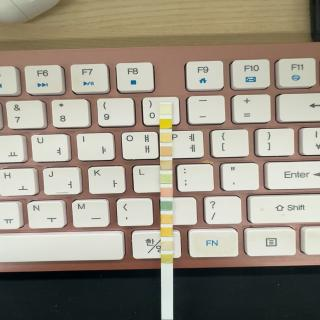mark: (160, 146, 173, 156), (160, 188, 173, 198), (160, 160, 173, 170), (160, 132, 172, 142), (160, 118, 172, 128), (159, 105, 172, 114), (161, 214, 172, 224), (161, 228, 173, 237), (160, 174, 172, 183), (162, 254, 173, 263), (161, 241, 172, 250), (161, 201, 172, 210)
